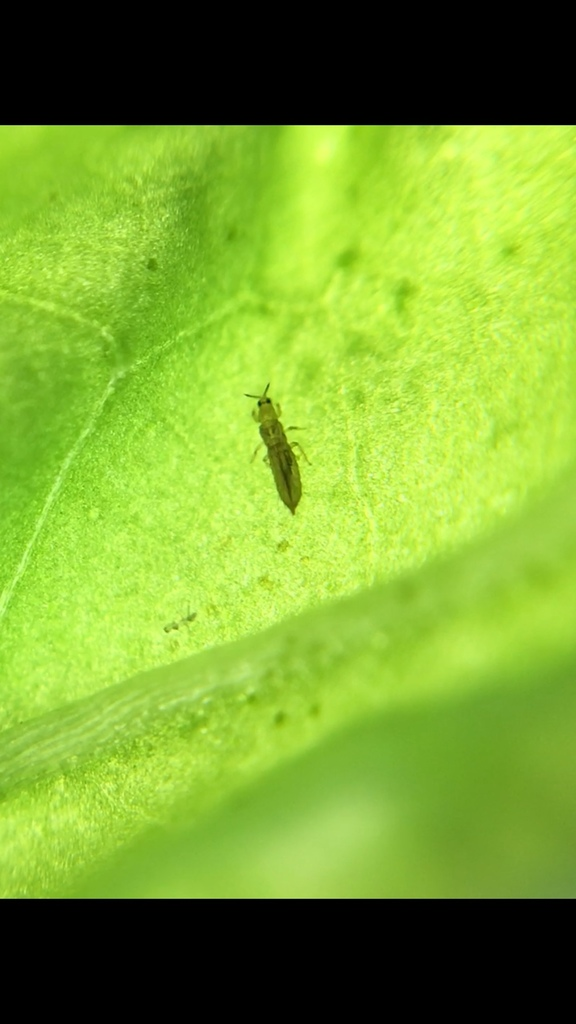tiny_pests: (202, 343, 352, 548)
